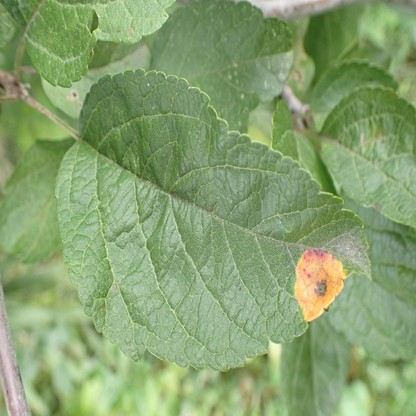rust: (294, 247, 345, 322)
